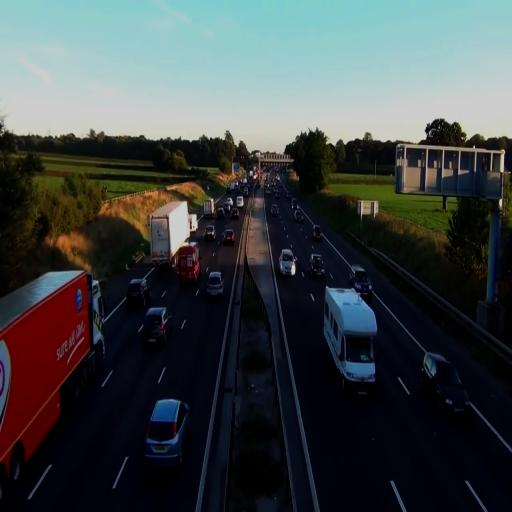vehicle: (0, 268, 107, 500), (323, 284, 378, 399), (144, 398, 191, 470), (420, 350, 469, 419), (149, 200, 190, 268), (139, 306, 174, 348), (174, 243, 202, 283), (174, 244, 200, 286), (126, 271, 153, 309), (126, 278, 148, 310), (206, 269, 224, 301), (353, 273, 372, 302), (280, 246, 296, 276), (310, 252, 325, 278), (204, 223, 216, 242), (223, 228, 235, 246)
